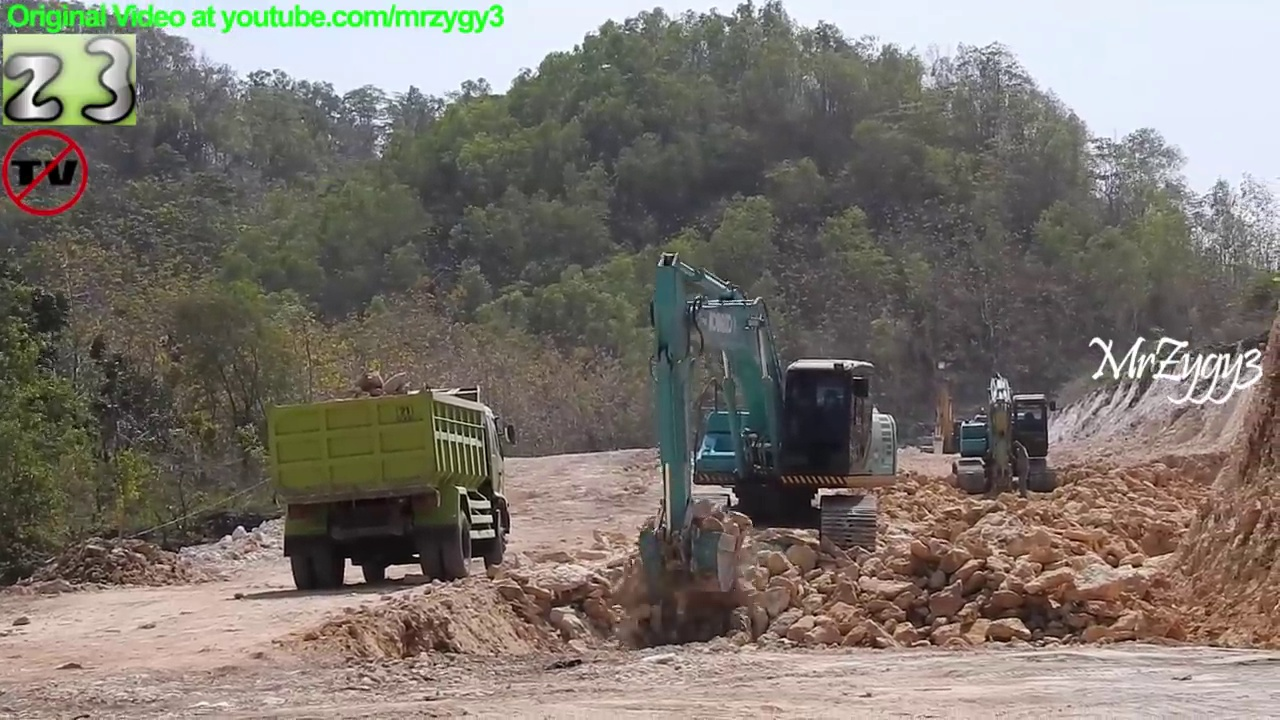excavator: (633, 247, 905, 602), (913, 354, 975, 461)
excavator breaker: (950, 367, 1062, 498)
truck: (260, 382, 523, 595)
worker: (1003, 436, 1041, 502)
